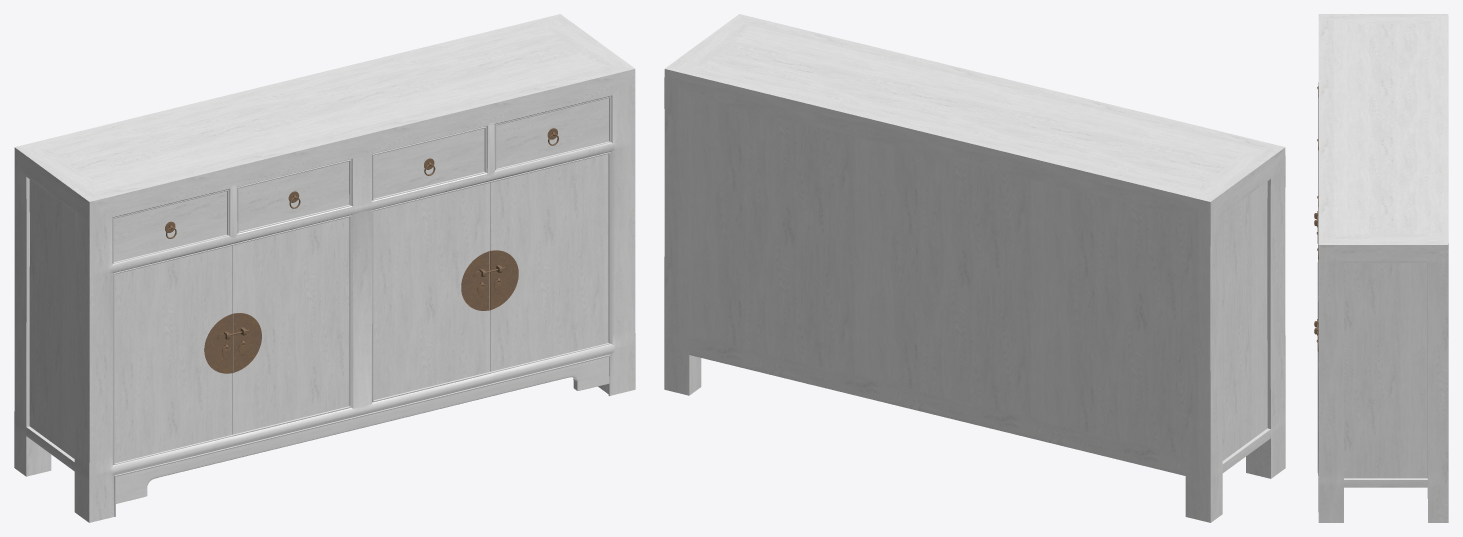
The model's file is sideboard_orient.gltf.
3 renders of one model, left to right at view 1: azimuth 30°, elevation 25°; view 2: azimuth 150°, elevation 25°; view 3: azimuth 270°, elevation 25°, orthographic. The views are drawn at different scales.
Visible parts, largest first — view 1: sb; view 2: sb; view 3: sb.
Boxes of the visible parts, x1,y1,x2,y2 form: sb: [14, 14, 635, 522]; sb: [664, 14, 1285, 522]; sb: [1314, 14, 1448, 522].
Bounding box in the file's own units: 1.6 × 0.8971 × 0.3923.
Materials: 1 (1 with a texture image).
